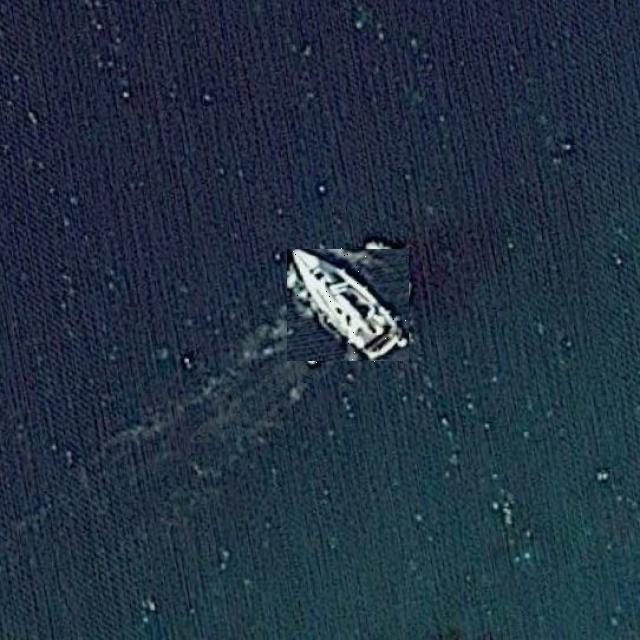boat: (290, 246, 407, 363)
